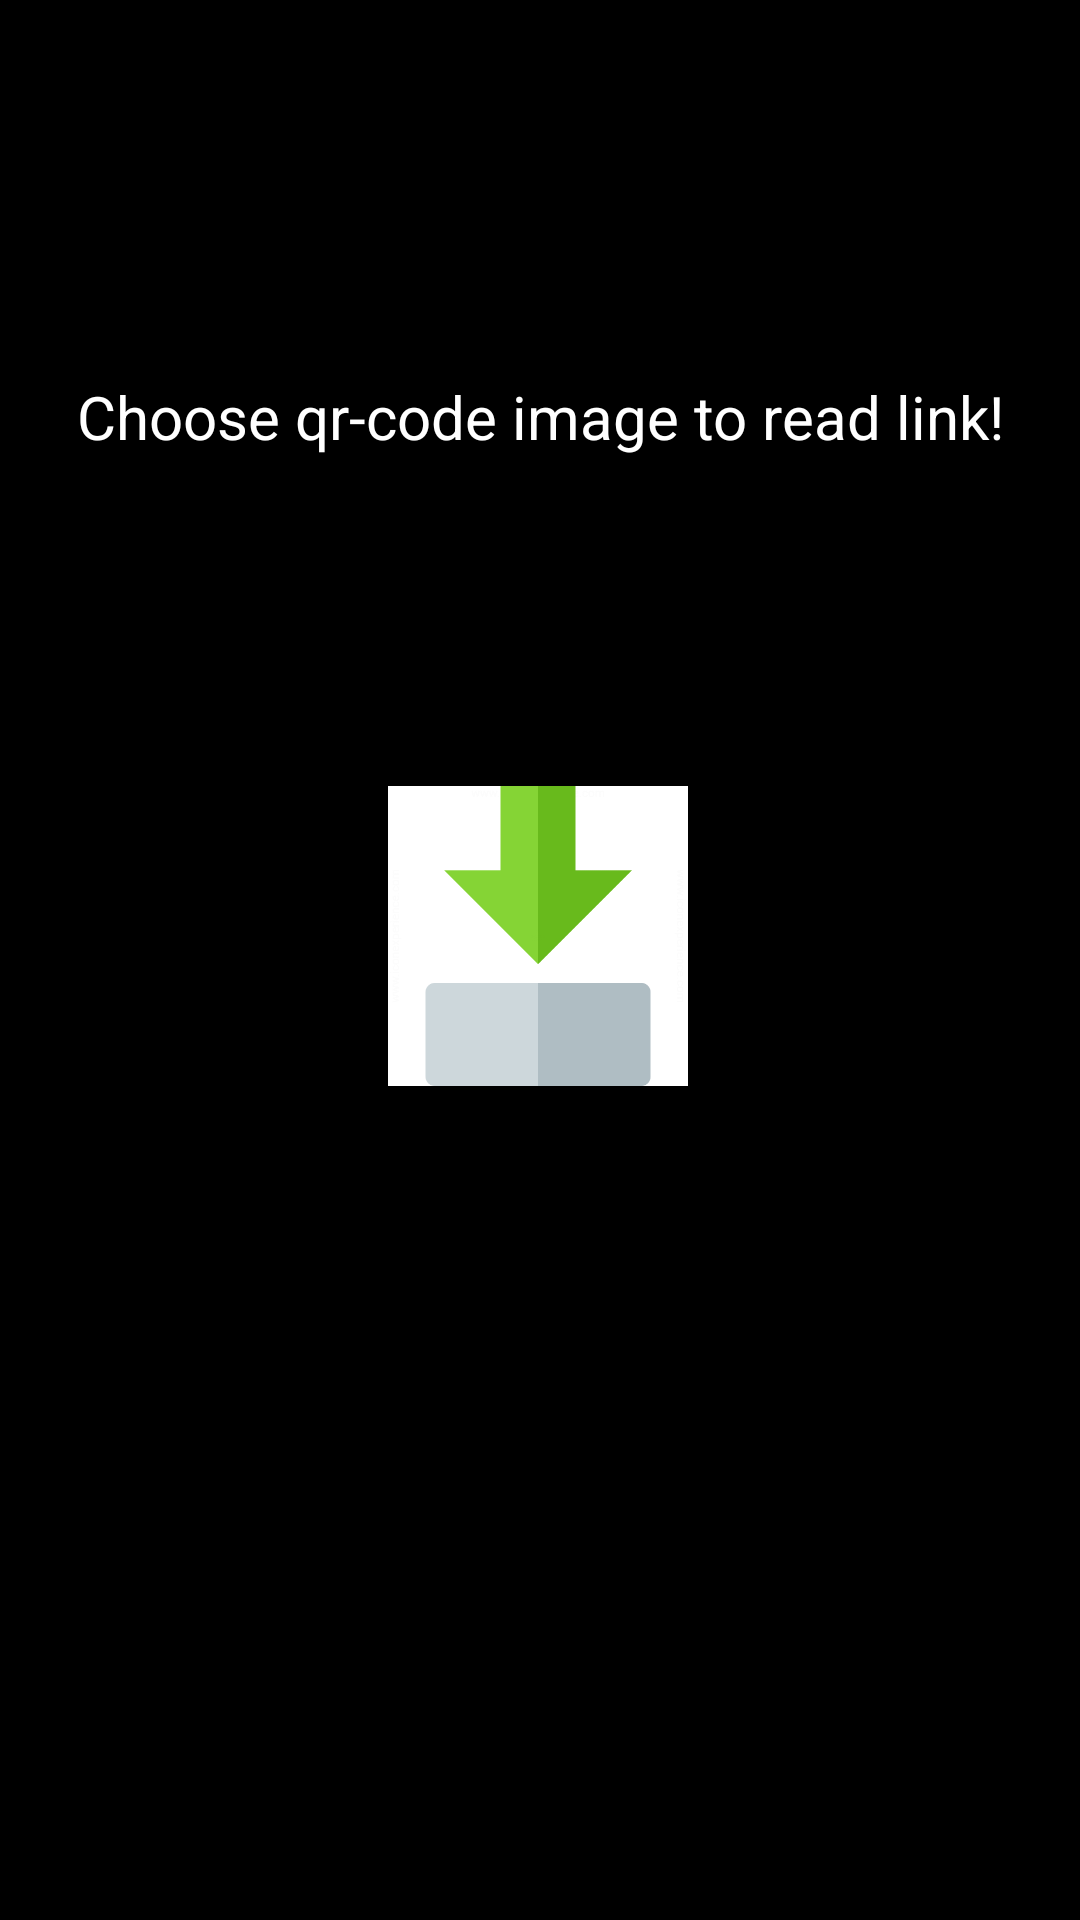

Named icons in this screenshot (1080px×1920px) and their bounding boxes, box(x1, y1, x2, y2):
import: box(388, 786, 688, 1086)
